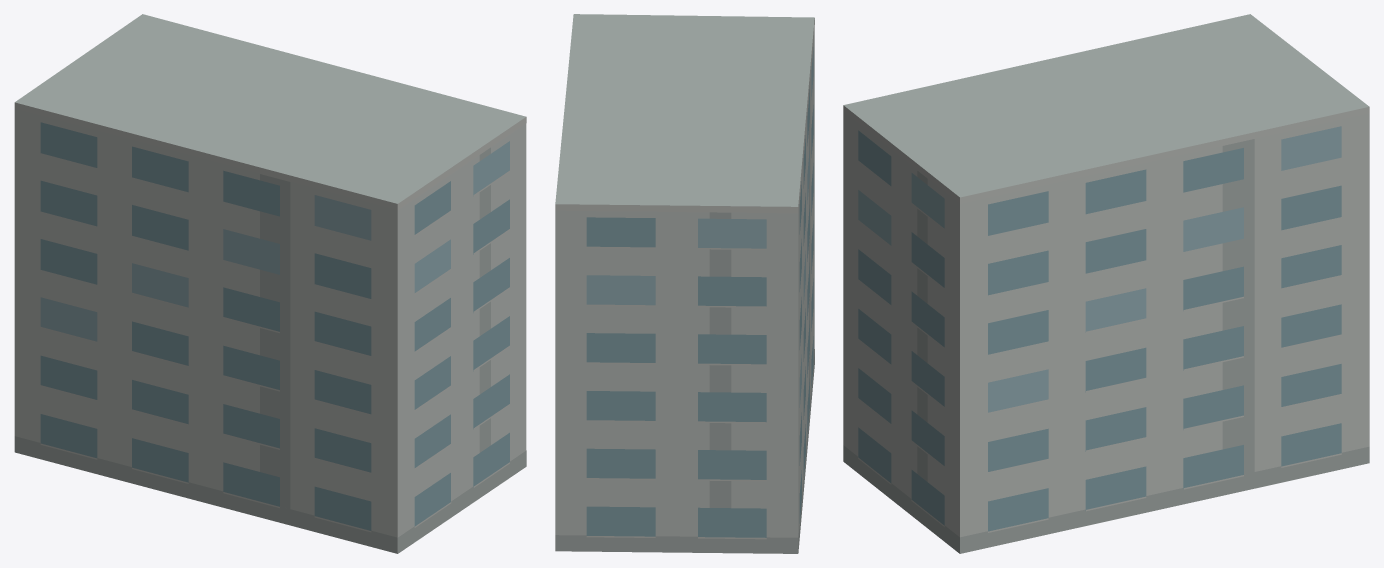
Rendered from survey-upis-32957084.glb.
3 renders of one model, left to right at view 1: azimuth 30°, elevation 25°; view 2: azimuth 150°, elevation 25°; view 3: azimuth 270°, elevation 25°, orthographic. The views are drawn at different scales.
Parts seen in each view (by area): view 1: survey-upis-32957084.tmp; view 2: survey-upis-32957084.tmp; view 3: survey-upis-32957084.tmp.
Boxes of the visible parts, left/top/right/bottom form: survey-upis-32957084.tmp: left=14, top=14, right=526, bottom=553; survey-upis-32957084.tmp: left=555, top=14, right=814, bottom=553; survey-upis-32957084.tmp: left=843, top=14, right=1369, bottom=553.
Bounding box in the file's own units: 14.36 × 13 × 17.41.
